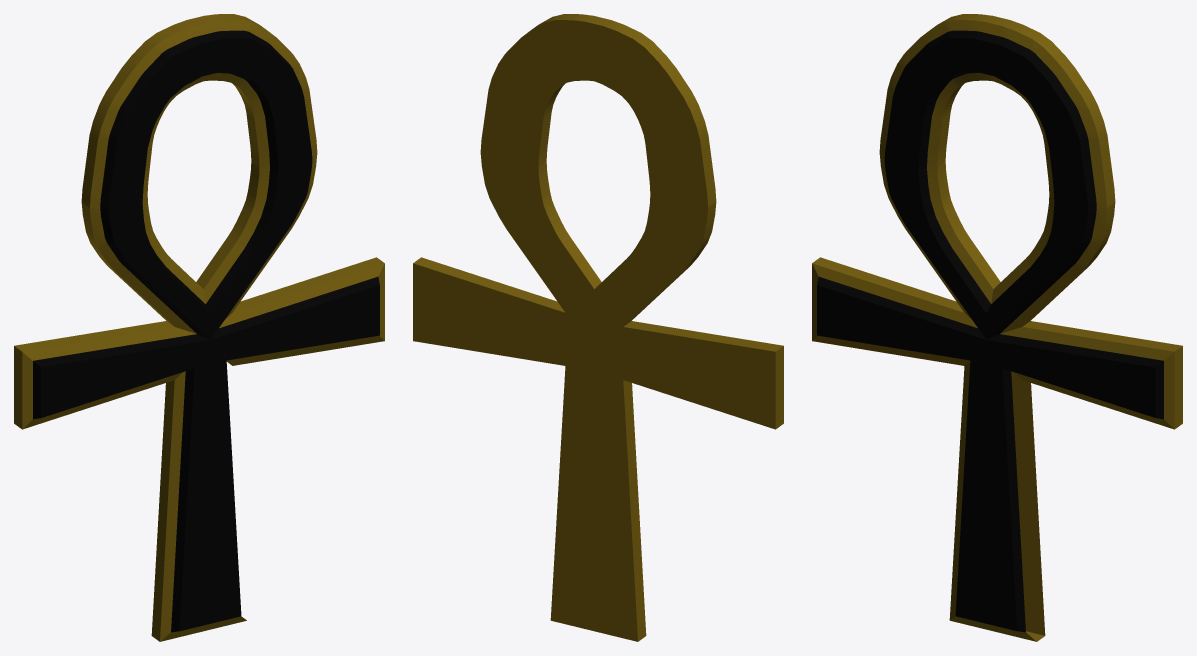
File: Cuerpo Roto Base Ahnk.fbx
The picture shows the model from 3 angles, left to right: view 1: azimuth 30°, elevation 25°; view 2: azimuth 150°, elevation 25°; view 3: azimuth 330°, elevation 25°; orthographic projection.
Visible parts, largest first — view 1: pCube5; view 2: pCube5; view 3: pCube5.
Boxes of the visible parts, bbox=[...] form: pCube5: bbox=[14, 14, 384, 641]; pCube5: bbox=[413, 14, 783, 641]; pCube5: bbox=[812, 14, 1182, 641].
Size of the model in its own units: 3.31 by 5.3 by 0.2404.
